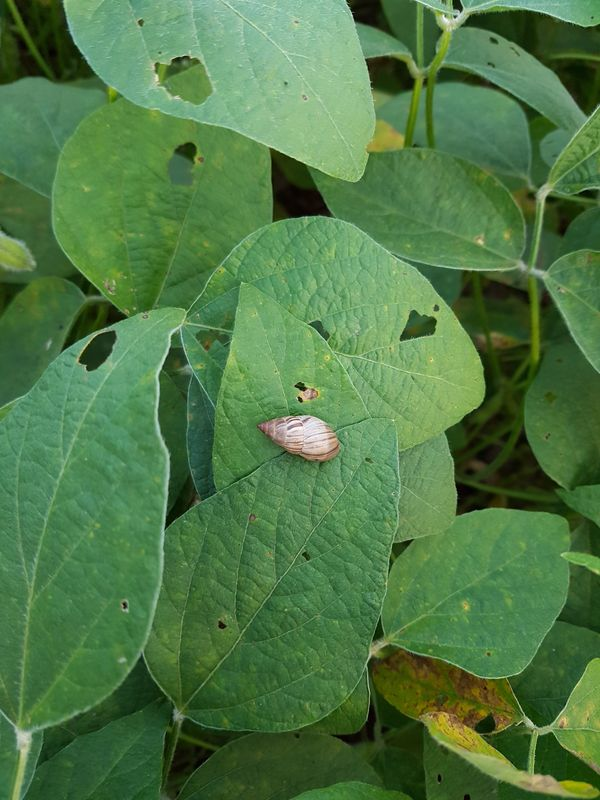Gastropoda: (243, 391, 359, 485)
